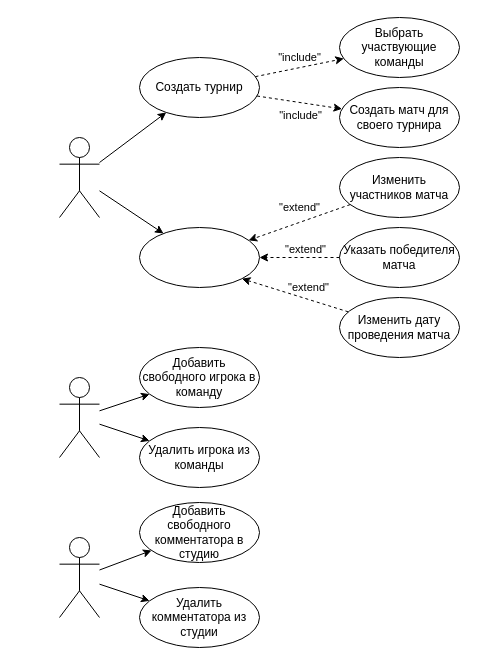
This 477x665 diagram has some shape labels left out. Here are the shapes that lost their labels. From the top down, the centre of each, then its label:
point 79,177: Организатор турниров
point 199,257: Обновить матч турнира
point 79,417: Капитан команды
point 79,577: Владелец студии
